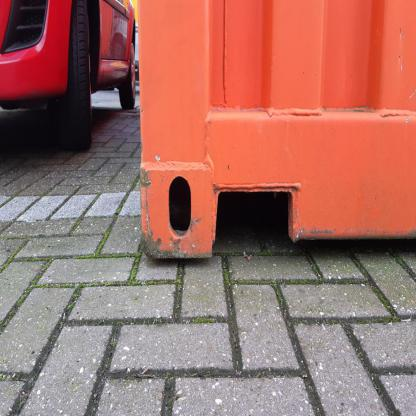CornerCasting: (136, 150, 219, 264)
